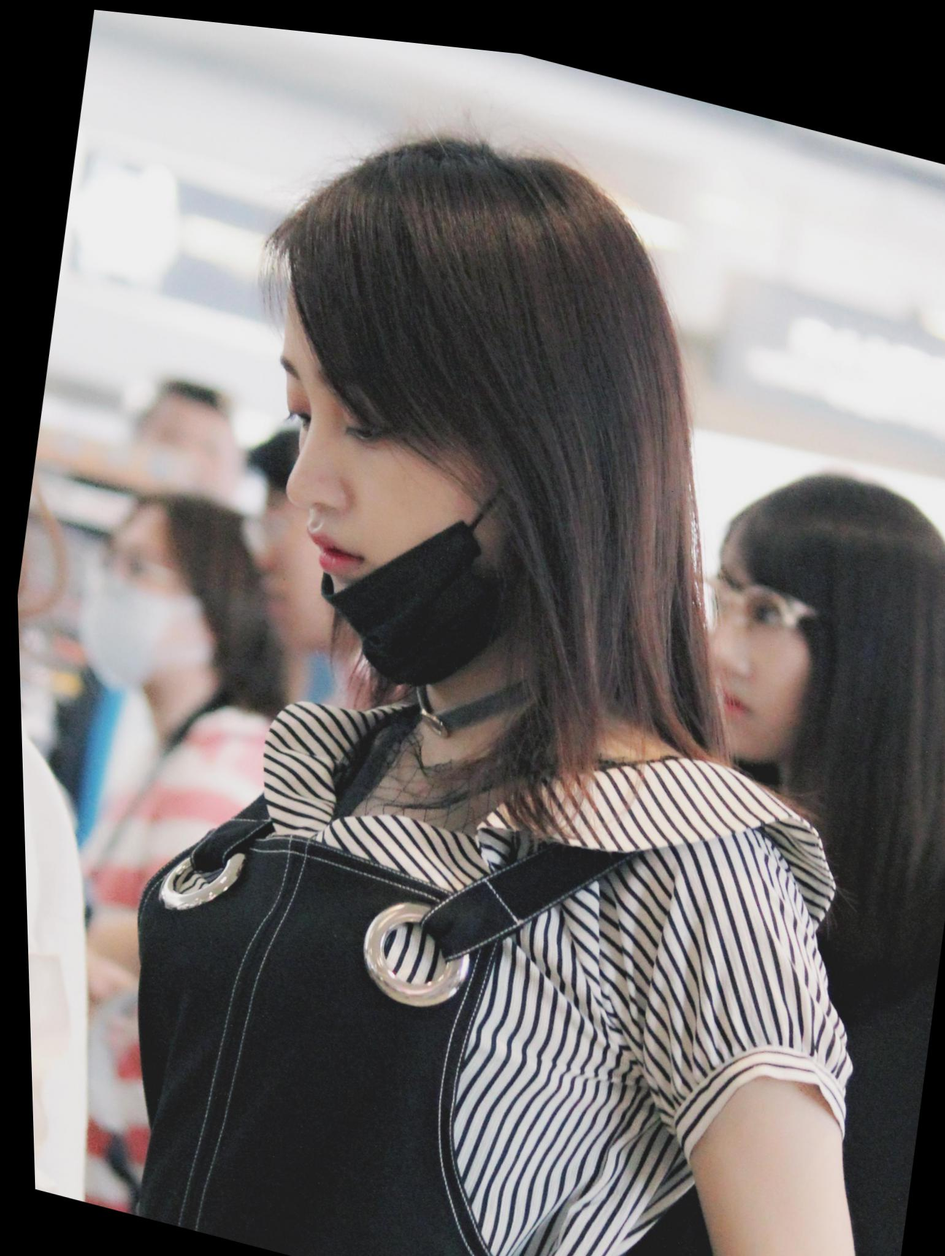NONE: (668, 541, 862, 767)
OK: (55, 529, 215, 711)
WRONG: (239, 297, 543, 681)
